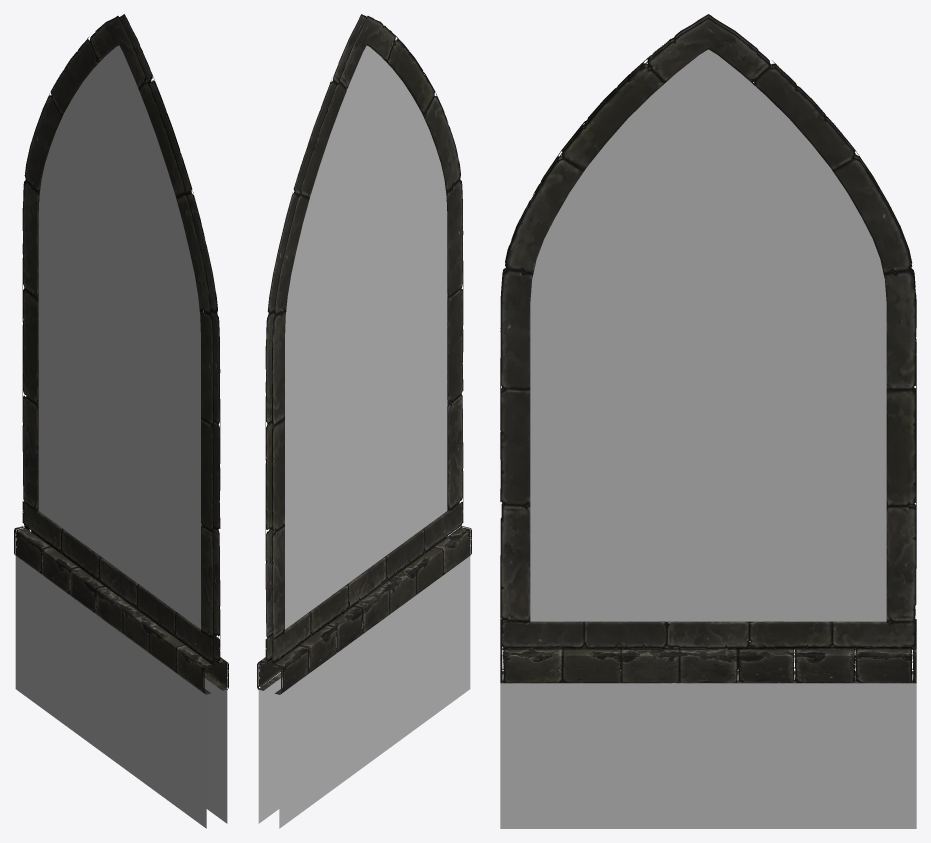
3 renders of one model, left to right at view 1: azimuth 30°, elevation 25°; view 2: azimuth 150°, elevation 25°; view 3: azimuth 270°, elevation 25°, orthographic. The views are drawn at different scales.
Parts seen in each view (by area): view 1: SM_Greathall_Window_Insert_03_LOD0; view 2: SM_Greathall_Window_Insert_03_LOD0; view 3: SM_Greathall_Window_Insert_03_LOD0.
Boxes of the visible parts, x1,y1,x2,y2 form: SM_Greathall_Window_Insert_03_LOD0: [14, 14, 228, 828]; SM_Greathall_Window_Insert_03_LOD0: [257, 14, 471, 828]; SM_Greathall_Window_Insert_03_LOD0: [500, 14, 916, 828].
Size of the model in its own units: 0.2645 by 7.84 by 3.66.
2 materials, 1 textured.
